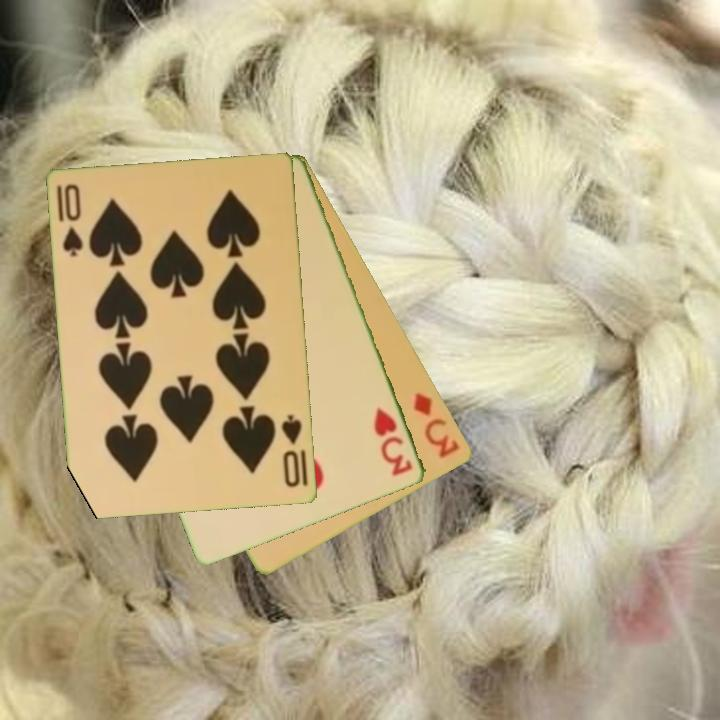10s: (53, 181, 86, 260), (278, 411, 305, 490)
3d: (410, 389, 463, 461)
3h: (371, 404, 416, 480)
